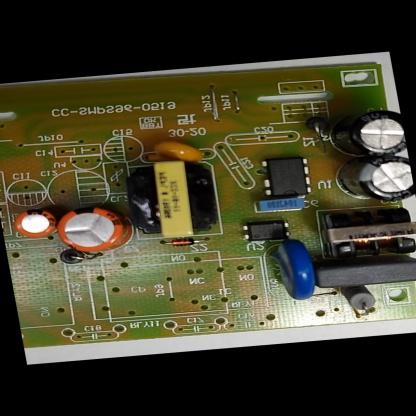Cap1: (50, 201, 140, 260)
Cap2: (6, 204, 62, 242)
Cap3: (331, 152, 416, 207)
Cap4: (315, 106, 407, 162)
MOSFET: (254, 153, 315, 203)
Mov: (260, 233, 324, 307)
Resistor: (332, 284, 385, 320)
Transformer: (118, 156, 227, 245), (316, 203, 416, 265)
